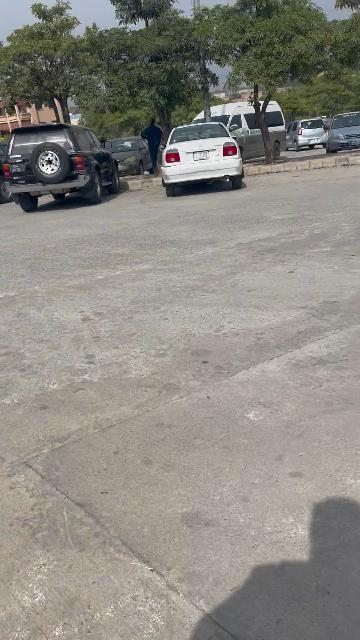plate: (193, 150, 210, 160), (9, 162, 24, 173)
